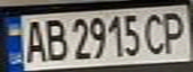1: (106, 12, 127, 59)
2: (66, 15, 90, 62)
5: (121, 11, 145, 57)
9: (87, 12, 109, 60)
A: (21, 17, 48, 64)
B: (42, 16, 69, 62)
C: (139, 10, 172, 56)
P: (157, 8, 190, 55)
